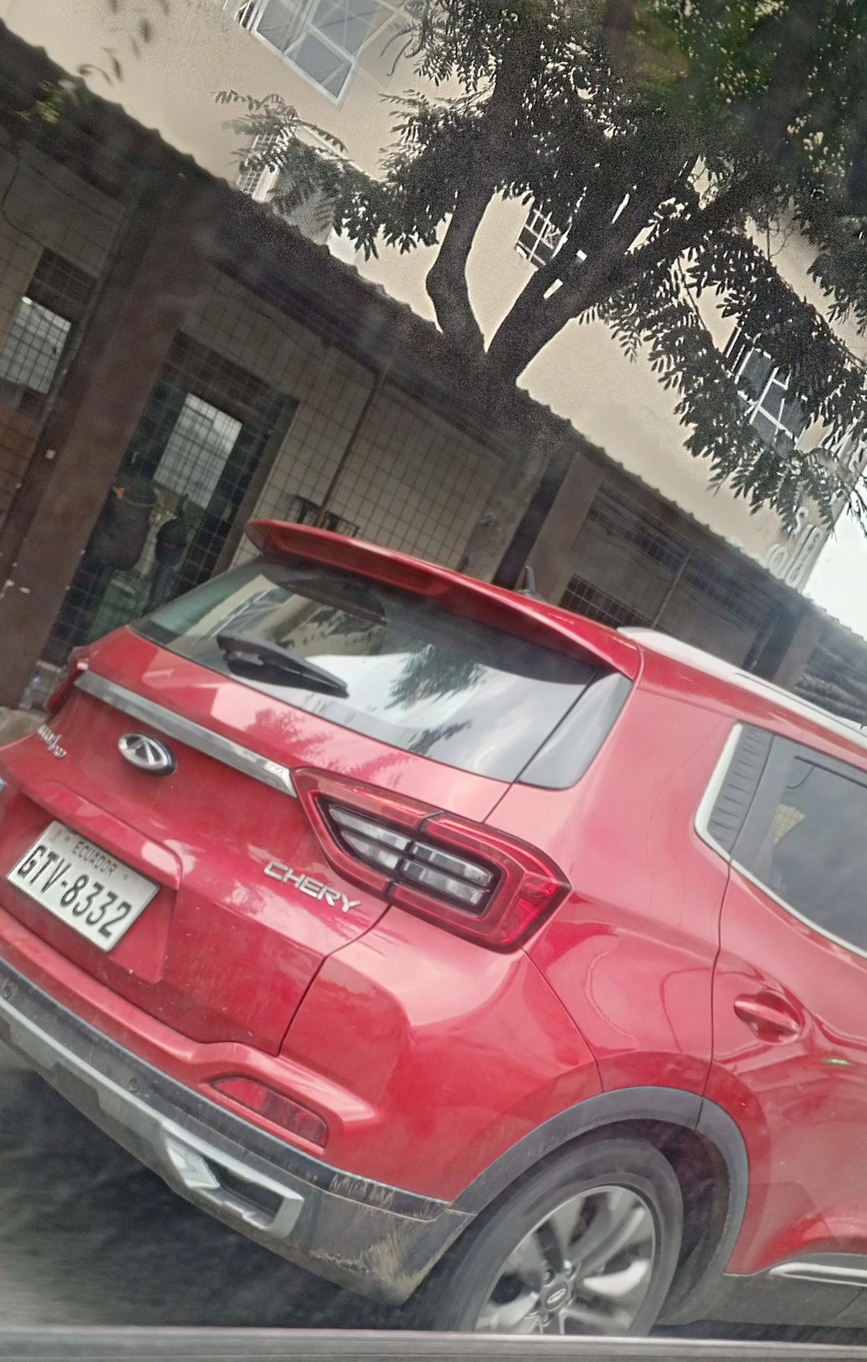license_plate: (2, 820, 156, 955)
